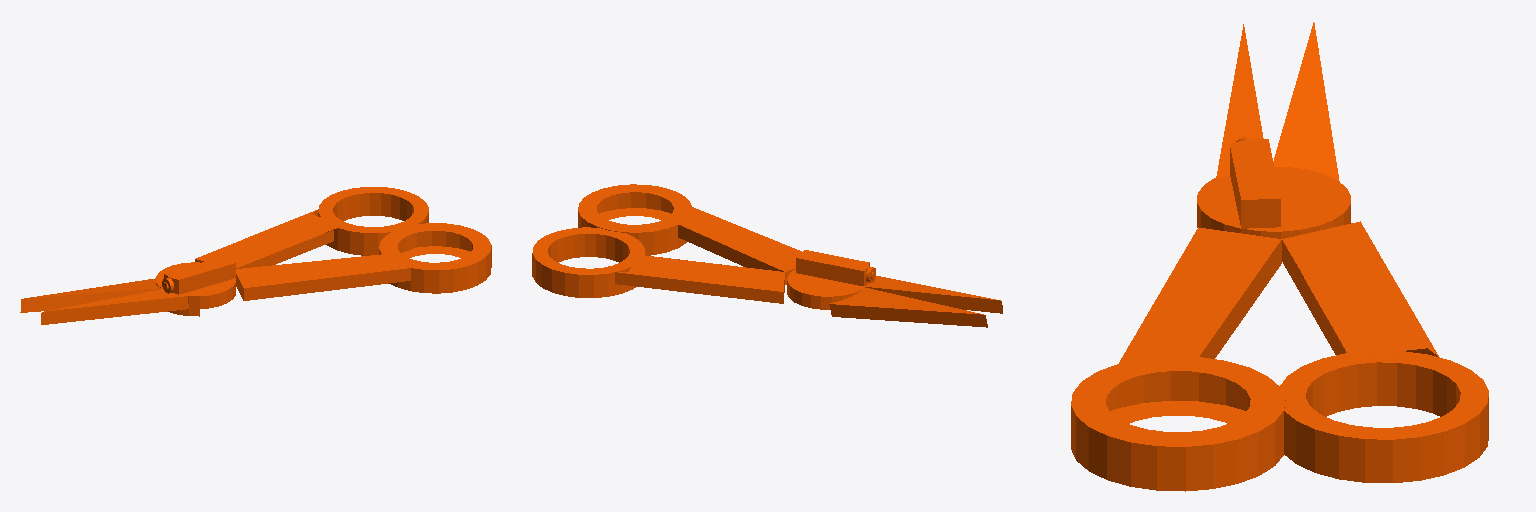
robot.urdf — Scissors_10882:
<?xml version="1.0" ?>
<robot name="Scissors_10882">
   <material name="obj_color">
      <color rgba="1.0 0.423529411765 0.0392156862745 1.0"/>
   </material>
   <link name="top">
      <inertial>
         <origin rpy="0.0003658614757391452 0.0006314110827906069 0.0009846877600801583" xyz="0.04927885602727811 0.0009348165981850592 -0.003000112892892013"/>
         <mass value="0.2963902546475438"/>
         <inertia ixx="0.0003680494081313718" ixy="2.238794251703595e-05" ixz="1.33552718928742e-05" iyy="0.000629514645658892" iyz="4.068917477662362e-07" izz="0.000984396264819646"/>
      </inertial>
      <visual>
         <origin rpy="0 0 0" xyz="0 0 0"/>
         <geometry>
            <mesh filename="top_watertight_tiny.stl" scale="1 1 1"/>
         </geometry>
         <material name="obj_color"/>
      </visual>
      <collision>
         <origin rpy="0 0 0" xyz="0 0 0"/>
         <geometry>
            <mesh filename="top_watertight_tiny.obj" scale="1 1 1"/>
         </geometry>
      </collision>
   </link>
   <link name="bottom">
      <inertial>
         <origin rpy="1.951864324956707e-05 0.0001646997343710666 0.0001763264396225596" xyz="-0.1153860552878083 -0.001037247680279805 0.005029497441321372"/>
         <mass value="0.1107728153485351"/>
         <inertia ixx="1.99078593640367e-05" ixy="3.006739816172365e-06" ixz="7.157141528726878e-06" iyy="0.0001646503721391961" iyz="2.415133129545574e-07" izz="0.0001759865857399605"/>
      </inertial>
      <visual>
         <origin rpy="0 0 0" xyz="0 0 0"/>
         <geometry>
            <mesh filename="bottom_watertight_tiny.stl" scale="1 1 1"/>
         </geometry>
         <material name="obj_color"/>
      </visual>
      <collision>
         <origin rpy="0 0 0" xyz="0 0 0"/>
         <geometry>
            <mesh filename="bottom_watertight_tiny.obj" scale="1 1 1"/>
         </geometry>
      </collision>
   </link>
   <joint name="rotation" type="revolute">
      <origin xyz="0 0 0"/>
      <axis xyz="0 0 -1"/>
      <parent link="bottom"/>
      <child link="top"/>
      <dynamics damping="1.0" friction="1.0"/>
      <limit effort="0.1" velocity="0.1" lower="0" upper="0.001"/>
   </joint>
</robot>

--- Render facts (derived) ---
Views: 3 orthographic renders of the robot side by side, from view 1: azimuth 30°, elevation 25°; view 2: azimuth 150°, elevation 25°; view 3: azimuth 270°, elevation 25°.
Robot: Scissors_10882 — 2 links, 1 joints (1 revolute); root link bottom; default pose: every joint at zero.
Links seen in each view (by area): view 1: top, bottom; view 2: top, bottom; view 3: top, bottom.
Link boxes in pixels (<box>): top: <box>195,187,491,300</box>; bottom: <box>20,256,235,324</box>; top: <box>532,184,801,303</box>; bottom: <box>787,250,1002,327</box>; top: <box>1071,221,1488,491</box>; bottom: <box>1197,22,1350,238</box>.
Size in the robot's own frame: 0.3313 by 0.1462 by 0.0292 metres.
2 mesh visuals loaded from 2 distinct referenced files (2 binary STL).